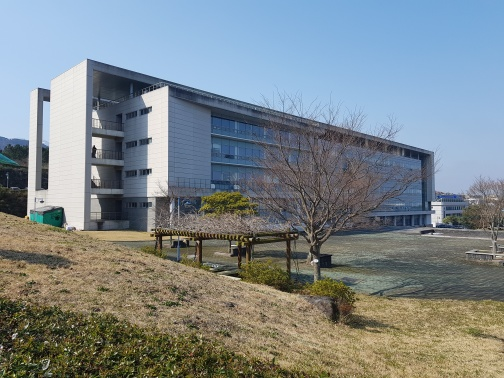Engineering College Building 4: (26, 69, 437, 230), (36, 61, 158, 234)
